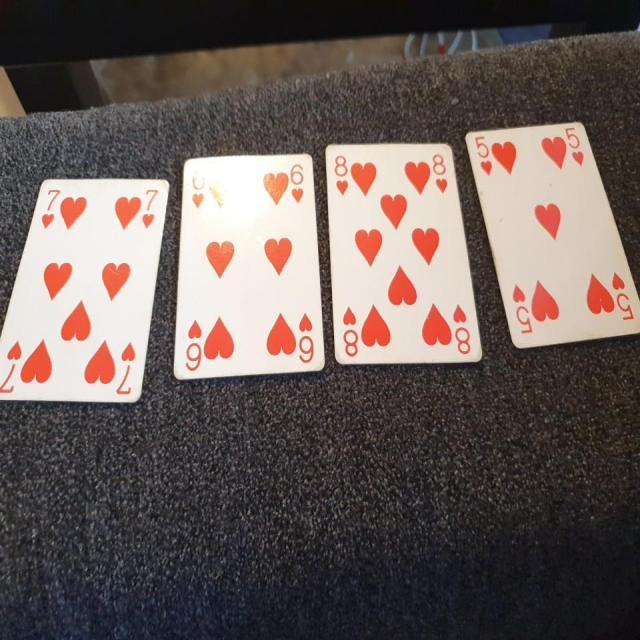5 of hearts: (466, 115, 640, 354)
6 of hearts: (165, 149, 328, 384)
7 of hearts: (1, 160, 174, 407)
8 of hearts: (324, 142, 482, 382)
